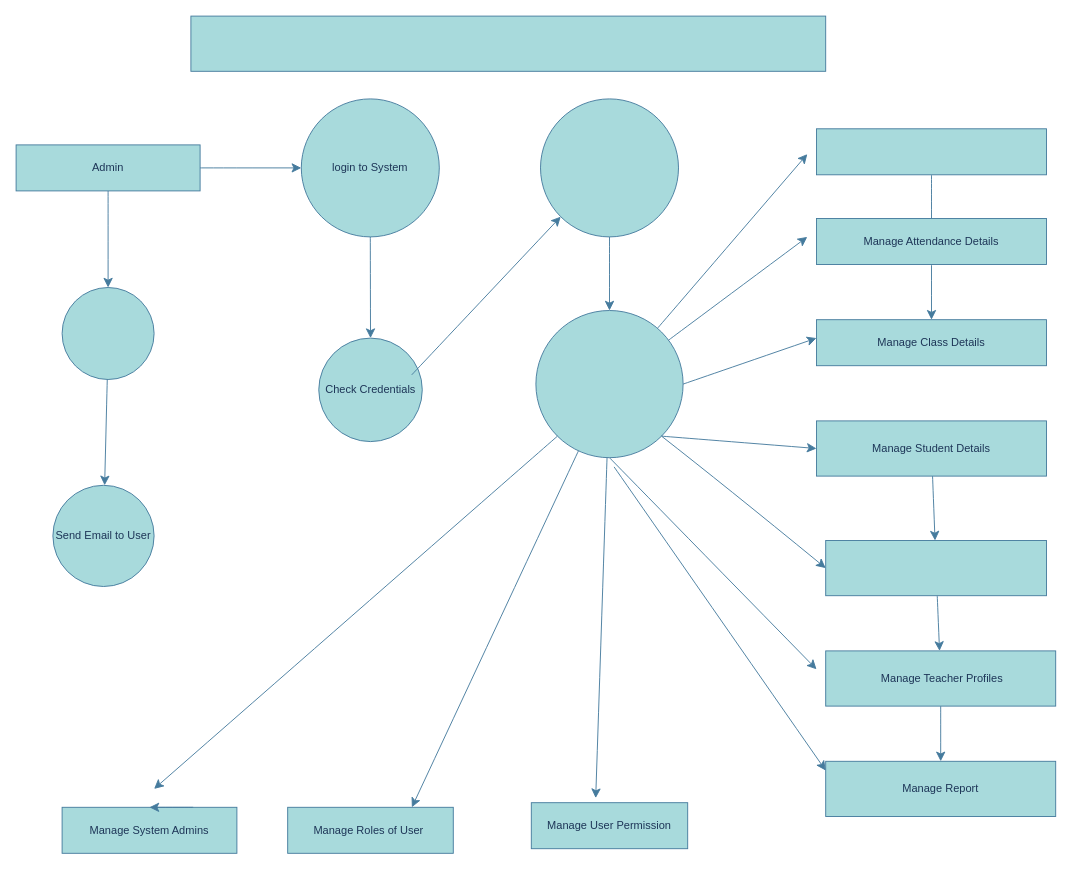
Image size: 1072x869. Some labels were removed from this diagram. The shapes that lost their labels are listed below. From the top down, each one's centre as x and y in pixels, then its label:
At point 508,43: "Student Information System".
At point 609,167: "Check Roles of Acces".
At point 931,151: "Manage Timetable Details".
At point 107,333: "Forgot Password".
At point 609,384: "Manage Modules".
At point 935,568: "Manage Fees Details".
